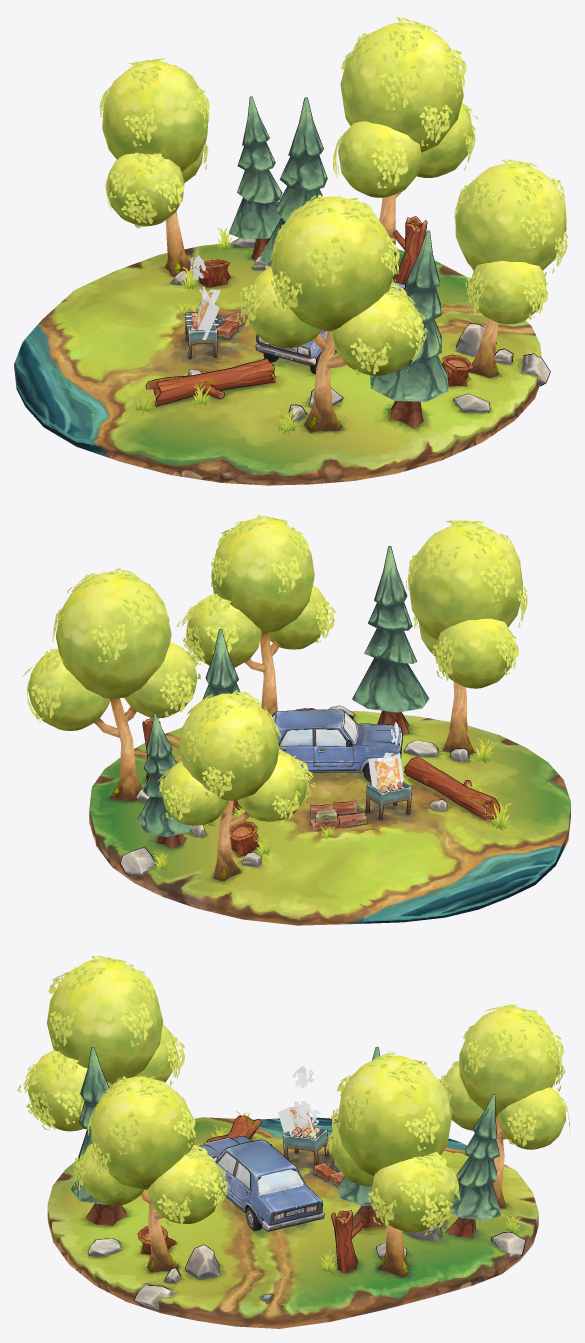
File: stylized_forest_-_scene_may_holiday.glb
The picture shows the model from 3 angles, top to bottom: view 1: azimuth 30°, elevation 25°; view 2: azimuth 150°, elevation 25°; view 3: azimuth 270°, elevation 25°; orthographic projection. The views are drawn at different scales.
Visible parts, largest first — view 1: Soil, Circle.008, Circle.011, Circle.005, Circle, Circle.007, Circle.010, Circle.001, Circle.003, Car, Circle.004, Barbecue (+5 smaller); view 2: Soil, Circle.011, Circle.008, Circle.005, Circle, Circle.007, Car, Circle.010, Circle.003, Circle.001, Plane, Barbecue (+3 smaller); view 3: Soil, Circle.011, Circle.005, Circle.008, Circle, Car, Circle.010, Circle.007, Circle.004, Circle.001, Barbecue, Cube.008 (+6 smaller).
Boxes of the visible parts, left/top/right/bottom form: Soil: left=14, top=243, right=541, bottom=485; Circle.008: left=236, top=194, right=427, bottom=432; Circle.011: left=332, top=17, right=478, bottom=268; Circle.005: left=454, top=159, right=568, bottom=378; Circle: left=99, top=58, right=209, bottom=276; Circle.007: left=370, top=230, right=448, bottom=428; Circle.010: left=228, top=96, right=282, bottom=259; Circle.001: left=259, top=97, right=327, bottom=266; Circle.003: left=145, top=358, right=275, bottom=406; Car: left=255, top=281, right=405, bottom=374; Circle.004: left=392, top=216, right=427, bottom=285; Barbecue: left=185, top=312, right=218, bottom=359; Soil: left=89, top=711, right=570, bottom=925; Circle.011: left=22, top=568, right=200, bottom=801; Circle.008: left=406, top=520, right=527, bottom=754; Circle.005: left=177, top=515, right=335, bottom=716; Circle: left=154, top=690, right=314, bottom=881; Circle.007: left=352, top=546, right=429, bottom=734; Car: left=272, top=709, right=402, bottom=782; Circle.010: left=137, top=713, right=193, bottom=848; Circle.003: left=403, top=756, right=500, bottom=819; Circle.001: left=202, top=629, right=241, bottom=811; Plane: left=310, top=801, right=367, bottom=830; Barbecue: left=365, top=781, right=412, bottom=819; Soil: left=47, top=1117, right=538, bottom=1328; Circle.011: left=326, top=1052, right=460, bottom=1277; Circle.005: left=73, top=1075, right=229, bottom=1272; Circle.008: left=17, top=955, right=187, bottom=1131; Circle: left=438, top=1004, right=570, bottom=1208; Car: left=194, top=1136, right=324, bottom=1231; Circle.010: left=445, top=1094, right=500, bottom=1237; Circle.007: left=71, top=1047, right=126, bottom=1225; Circle.004: left=331, top=1210, right=363, bottom=1273; Circle.001: left=338, top=1047, right=384, bottom=1228; Barbecue: left=282, top=1126, right=329, bottom=1165; Cube.008: left=185, top=1244, right=219, bottom=1280.
Bounding box in the file's own units: 11.94 × 6.2 × 12.5.
13 materials, 12 textured.
